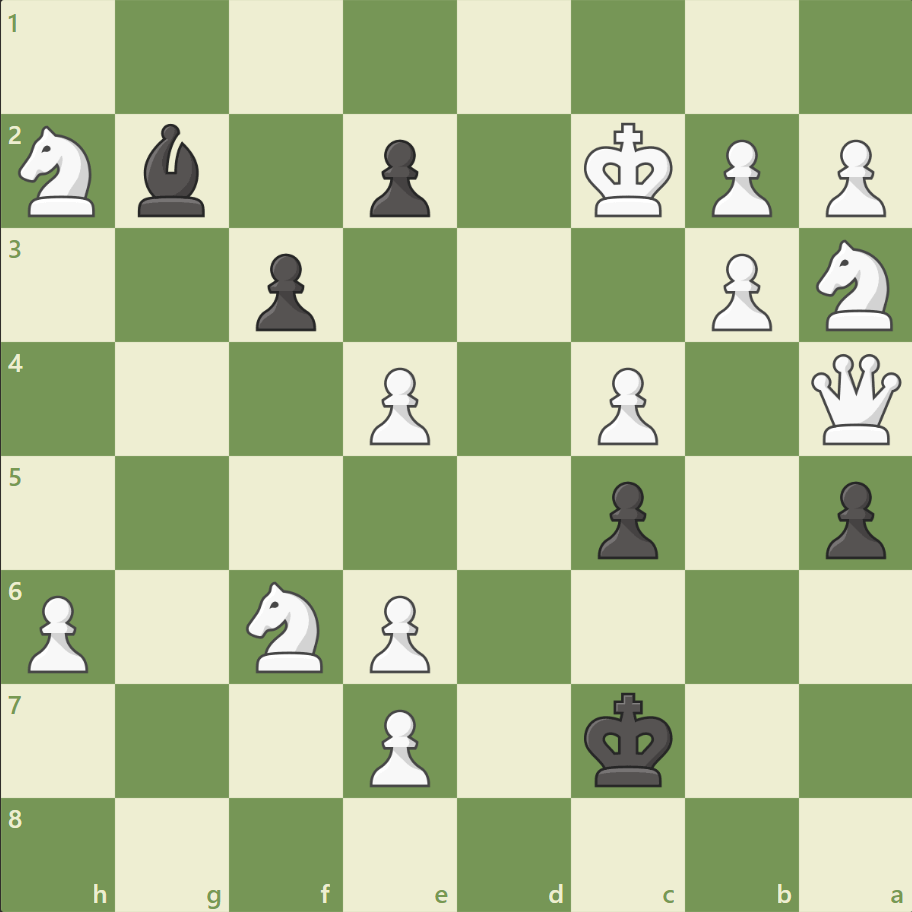K: (579, 117, 679, 225)
N: (806, 234, 903, 337), (238, 575, 335, 677), (11, 121, 108, 223)
P: (20, 586, 95, 677), (701, 246, 776, 337), (701, 132, 776, 223), (361, 700, 435, 791), (361, 586, 435, 677), (588, 359, 662, 450), (361, 359, 435, 450), (815, 132, 889, 223)
Q: (805, 349, 904, 449)
b: (131, 120, 215, 222)
k: (579, 685, 679, 793)
p: (247, 246, 322, 337), (815, 473, 889, 564), (588, 473, 662, 564), (361, 132, 435, 223)
